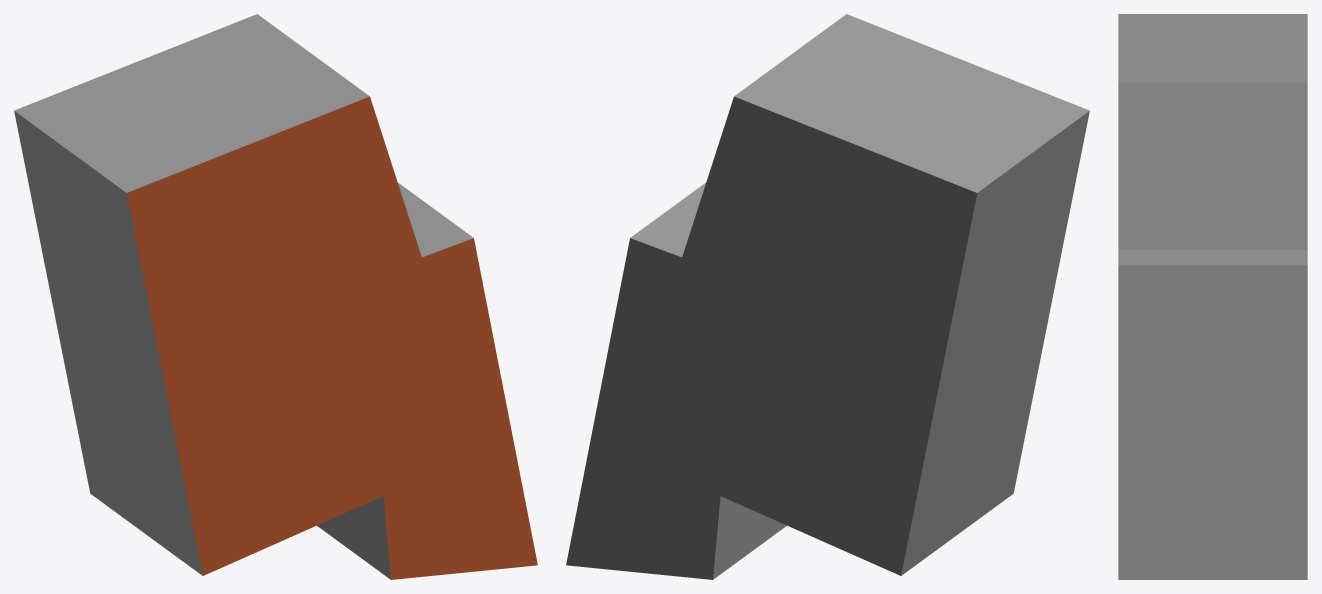
File: construction_1281_assumed_A_Casa_h6m.obj
3 renders of one model, left to right at view 1: azimuth 30°, elevation 25°; view 2: azimuth 150°, elevation 25°; view 3: azimuth 270°, elevation 25°, orthographic. The views are drawn at different scales.
Visible parts, largest first — view 1: construction_1281_assumed_A_Casa; view 2: construction_1281_assumed_A_Casa; view 3: construction_1281_assumed_A_Casa.
Boxes of the visible parts, bbox=[...] form: construction_1281_assumed_A_Casa: bbox=[14, 14, 537, 579]; construction_1281_assumed_A_Casa: bbox=[566, 14, 1089, 579]; construction_1281_assumed_A_Casa: bbox=[1118, 14, 1307, 579].
Bounding box in the file's own units: 12.65 × 14.98 × 6.
